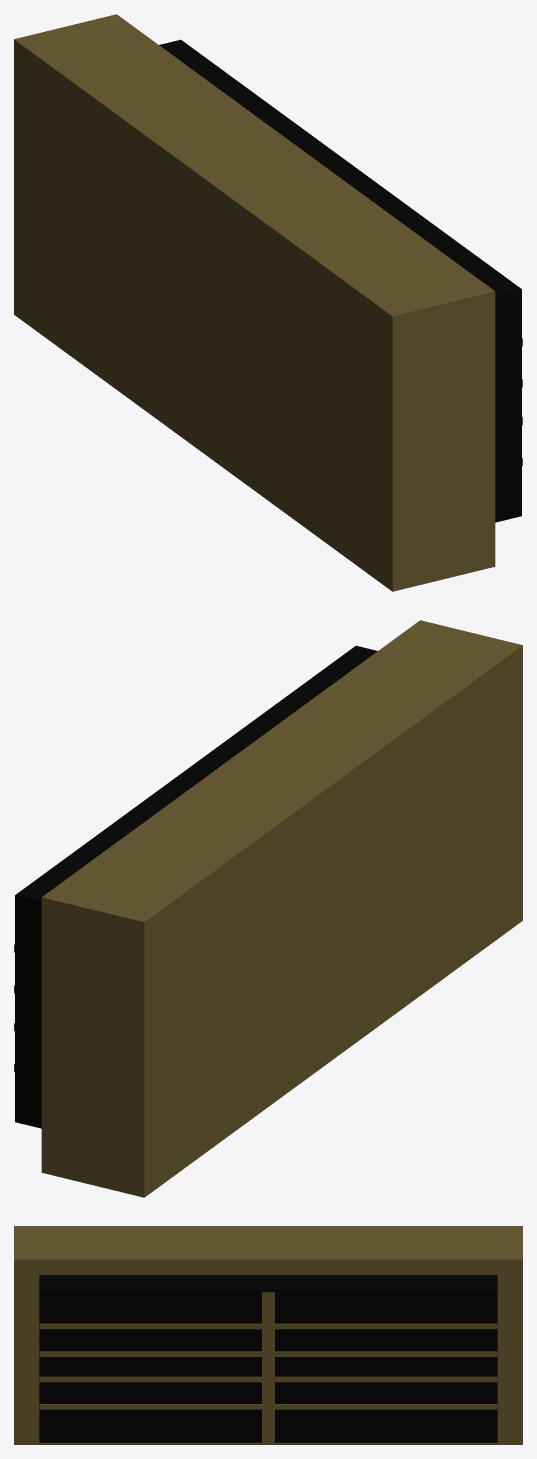
File: dresser.fbx
3 views of the same model, one above another, from view 1: azimuth 30°, elevation 25°; view 2: azimuth 150°, elevation 25°; view 3: azimuth 270°, elevation 25° (orthographic). The views are drawn at different scales.
Visible parts, largest first — view 1: group1_pasted__pCube1; view 2: group1_pasted__pCube1; view 3: group1_pasted__pCube1.
Part boxes in pixels (<box>): group1_pasted__pCube1: <box>14,14,522,591</box>; group1_pasted__pCube1: <box>14,620,522,1197</box>; group1_pasted__pCube1: <box>14,1226,522,1444</box>.
Bounding box in the file's own units: 1.46 × 2.56 × 6.38.
